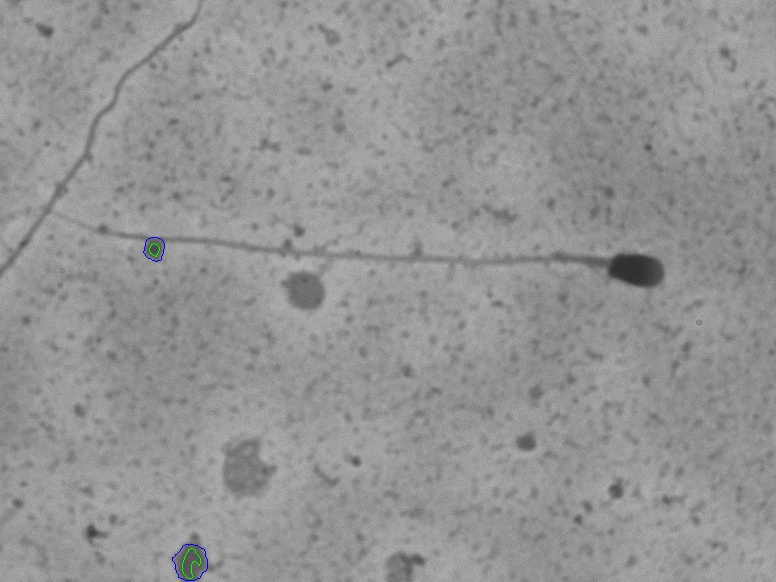Abnormal: (70, 191, 682, 320)
